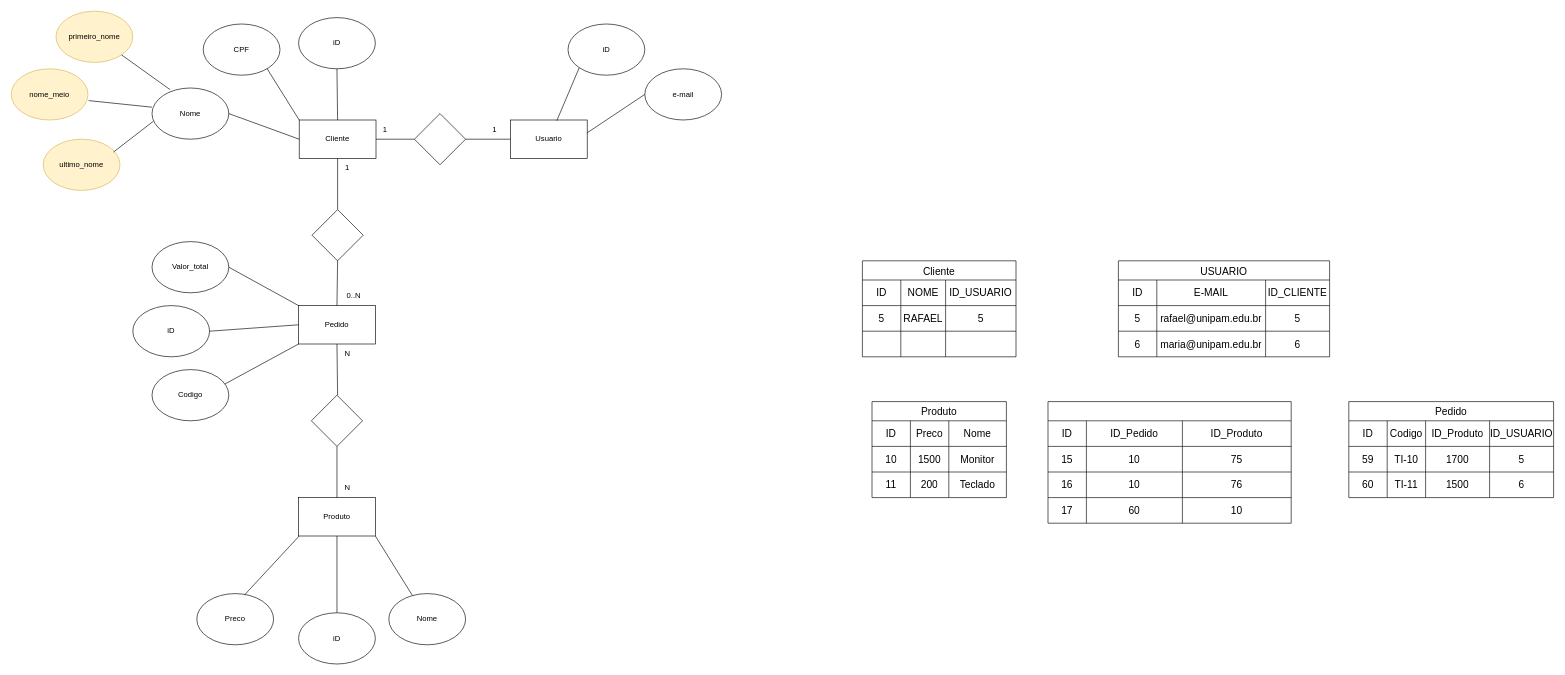
This 1565x675 diagram has some shape labels left out. Here are the shapes that lost their labels. From the top down, the box of each, then its label:
(414, 113, 466, 165): pode_ter
(311, 209, 363, 261): Faz
(311, 395, 363, 446): pode_conter
(1047, 401, 1291, 523): Produto_Pedido
